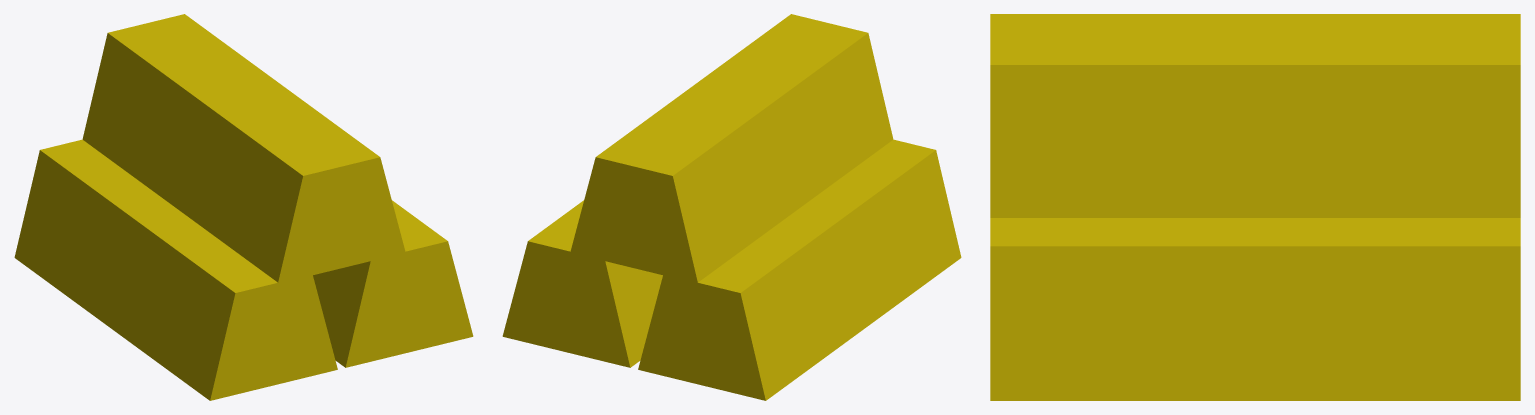
File: GoldBars.fbx
3 renders of one model, left to right at view 1: azimuth 30°, elevation 25°; view 2: azimuth 150°, elevation 25°; view 3: azimuth 270°, elevation 25°, orthographic. The views are drawn at different scales.
Parts seen in each view (by area): view 1: Gold Bars; view 2: Gold Bars; view 3: Gold Bars.
Part boxes in pixels (x1,y1,x2,y2): Gold Bars: [14, 14, 473, 400]; Gold Bars: [502, 14, 961, 400]; Gold Bars: [990, 14, 1520, 400].
Bounding box in the file's own units: 156 × 114 × 200.
